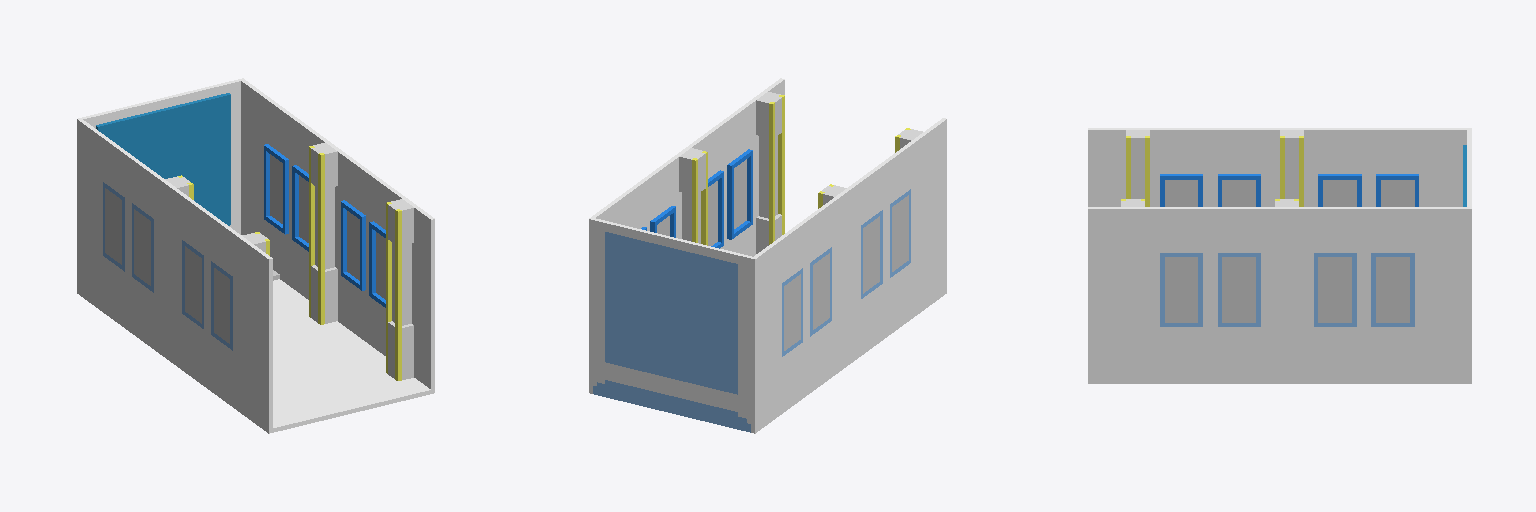
3 renders of one model, left to right at view 1: azimuth 30°, elevation 25°; view 2: azimuth 150°, elevation 25°; view 3: azimuth 270°, elevation 25°, orthographic.
Visible parts, largest first — view 1: object 1; view 2: object 1; view 3: object 1.
Part boxes in pixels (x1,y1,x2,y2): object 1: (77, 78, 434, 433); object 1: (589, 78, 946, 433); object 1: (1088, 128, 1471, 383).
Bounding box in the file's own units: 4 × 4 × 8.
Materials: 1 (1 with a texture image).